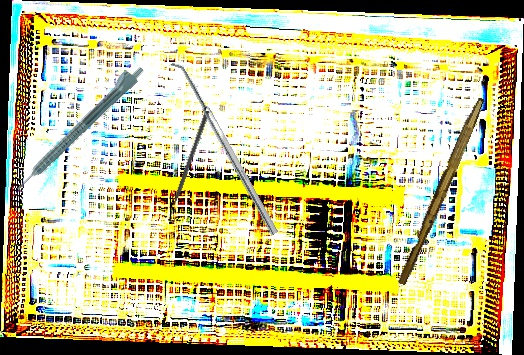Handpiece: (8, 59, 147, 194)
Pusher: (165, 109, 210, 221)
Scalpel Handle: (396, 94, 486, 288)
Spatula Surgical: (168, 57, 279, 240)
